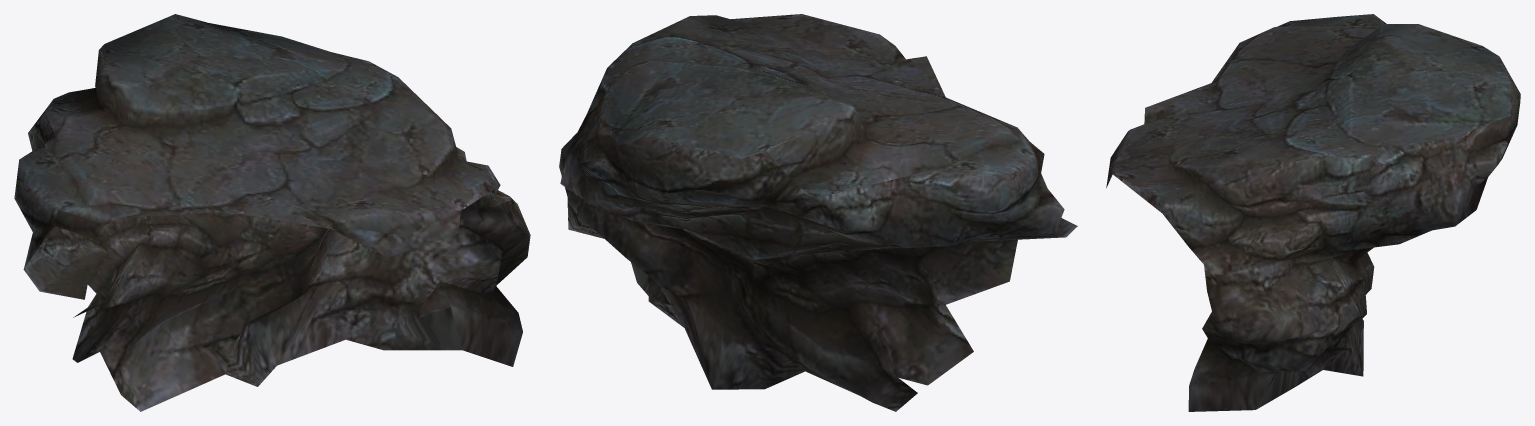
The model's file is S_Rock_Yellow036_H09.FBX.
3 renders of one model, left to right at view 1: azimuth 30°, elevation 25°; view 2: azimuth 150°, elevation 25°; view 3: azimuth 270°, elevation 25°, orthographic. The views are drawn at different scales.
Parts seen in each view (by area): view 1: S_Rock_Yellow036_H09; view 2: S_Rock_Yellow036_H09; view 3: S_Rock_Yellow036_H09.
Boxes of the visible parts, x1=… form: S_Rock_Yellow036_H09: x1=14, y1=14, x2=530, y2=411; S_Rock_Yellow036_H09: x1=559, y1=14, x2=1077, y2=411; S_Rock_Yellow036_H09: x1=1106, y1=14, x2=1520, y2=411.
Bounding box in the file's own units: 1310 × 1053 × 812.
Materials: 1 (1 with a texture image).
